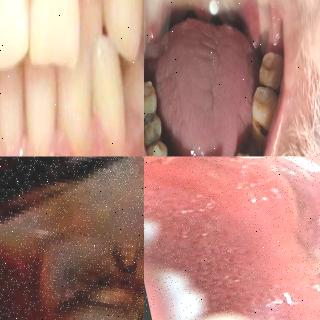cavities: (53, 245, 144, 320), (253, 113, 271, 141)
maligned: (86, 37, 136, 156), (67, 0, 119, 52)
stains: (144, 109, 164, 145)
